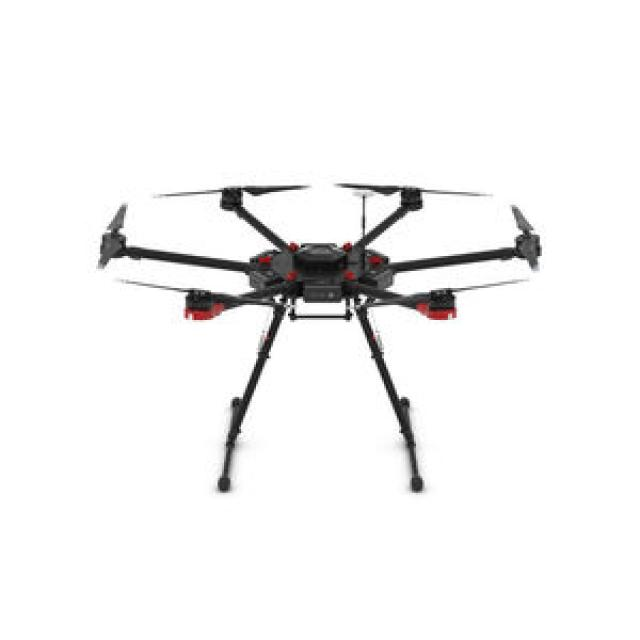drone: (38, 139, 556, 497)
